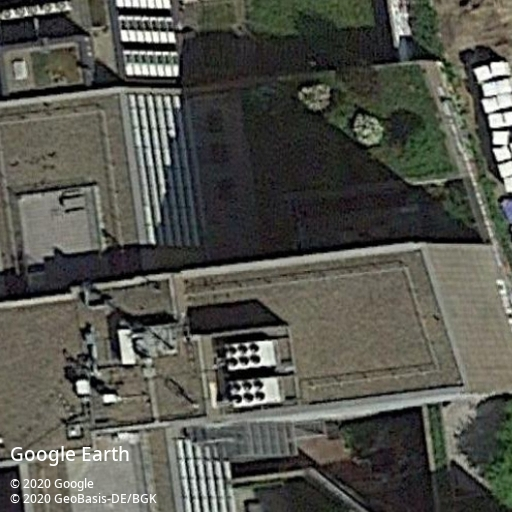Chiller: (229, 377, 282, 410), (224, 340, 277, 371)
